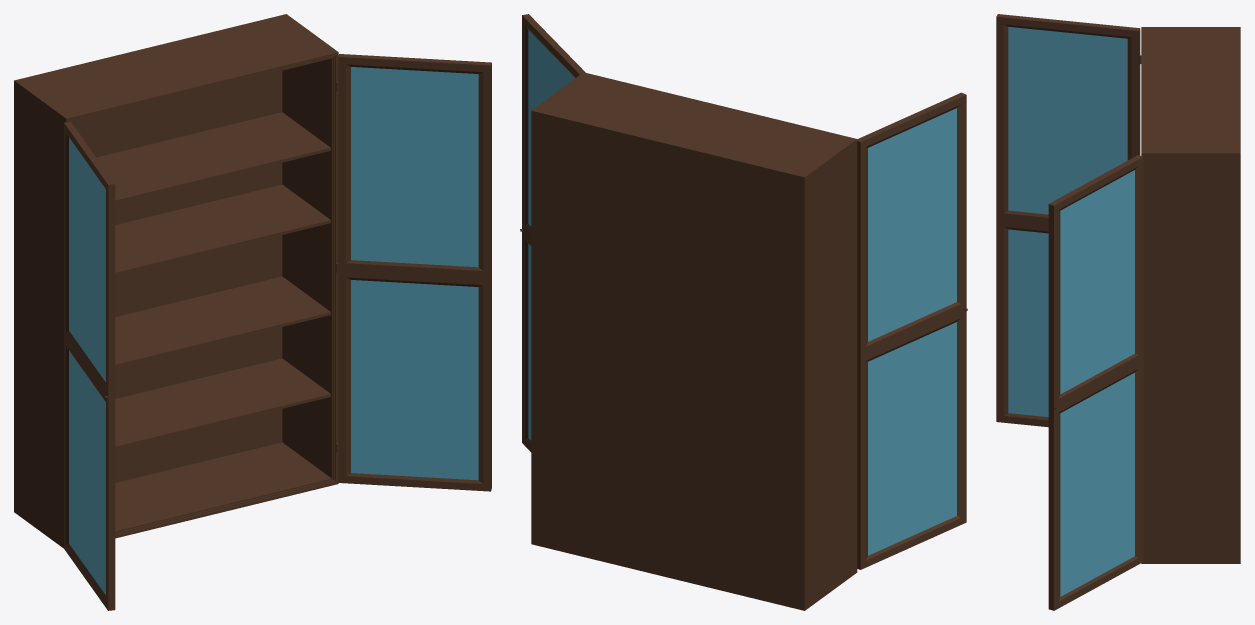
The model's file is armario_open.FBX.
The picture shows the model from 3 angles, left to right: view 1: azimuth 30°, elevation 25°; view 2: azimuth 150°, elevation 25°; view 3: azimuth 270°, elevation 25°; orthographic projection. The views are drawn at different scales.
Parts seen in each view (by area): view 1: Box007; view 2: Box007; view 3: Box007.
Boxes of the visible parts, left/top/right/bottom form: Box007: left=14, top=14, right=491, bottom=610; Box007: left=520, top=14, right=967, bottom=610; Box007: left=996, top=14, right=1240, bottom=610.
Size of the model in its own units: 2.24 by 2.22 by 1.2.
